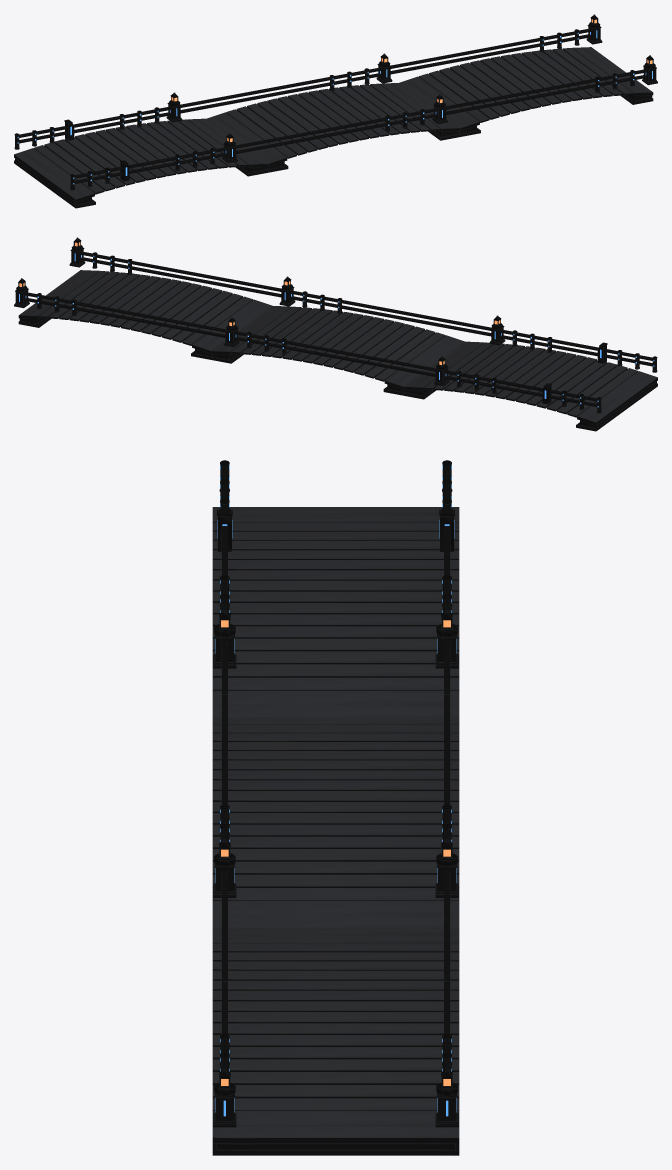
Rendered from bridge_projects_experiences.glb.
3 renders of one model, top to bottom at view 1: azimuth 30°, elevation 25°; view 2: azimuth 150°, elevation 25°; view 3: azimuth 270°, elevation 25°, orthographic. The views are drawn at different scales.
Parts seen in each view (by area): view 1: bridge; view 2: bridge; view 3: bridge.
Part boxes in pixels (box(x1,y1,x2,y2)): bridge: box(14, 14, 657, 208); bridge: box(14, 237, 657, 431); bridge: box(212, 460, 459, 1155).
Size of the model in its own units: 10.93 by 1.21 by 2.
Materials: 5 (3 with a texture image).
